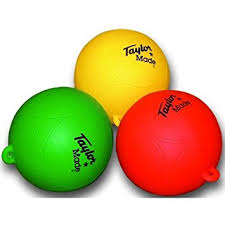buoy: (116, 89, 225, 199)
